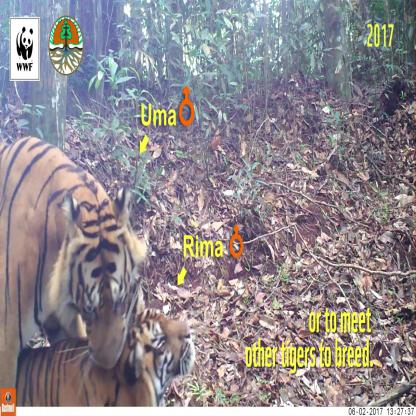Tiger: (0, 131, 143, 338), (32, 303, 211, 404)
